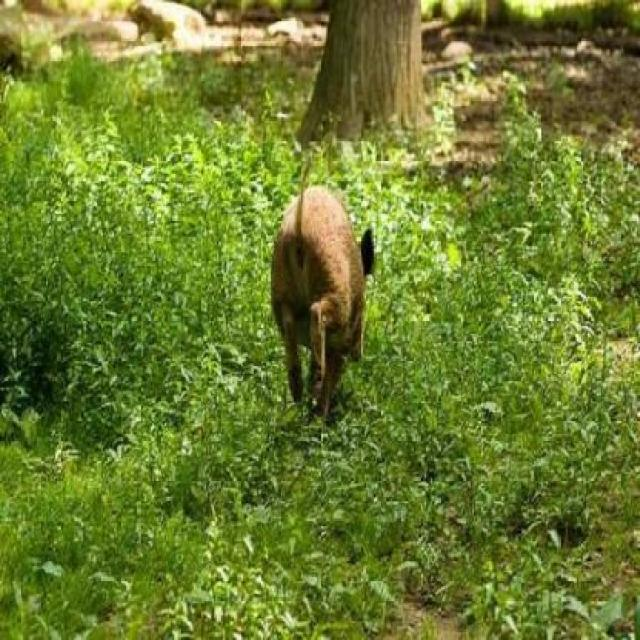pig: (180, 118, 401, 412)
